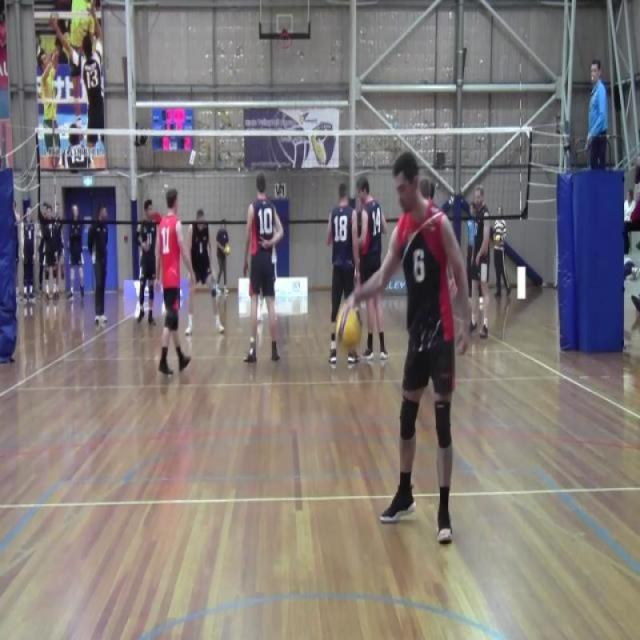volleyball: (333, 298, 365, 354), (494, 232, 502, 247), (222, 244, 230, 257)
